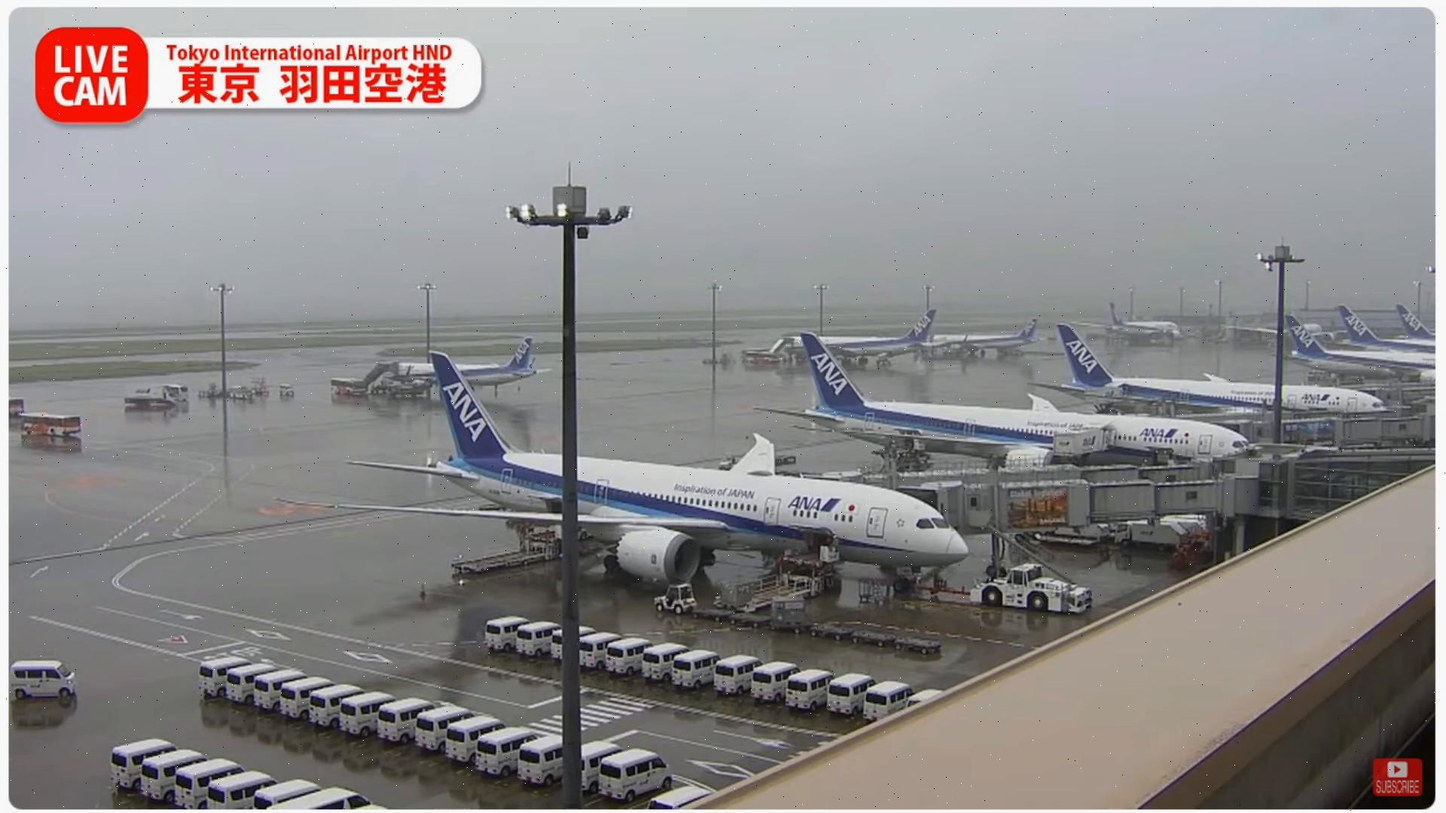APS: (969, 561, 1094, 613)
Aerobridge: (894, 452, 1258, 584), (795, 442, 1213, 488)
Airplane: (333, 353, 970, 591)
Dolly: (692, 607, 947, 655)
JCPL: (710, 542, 827, 611), (452, 521, 562, 576)
Tractor: (650, 583, 700, 617)
ULD: (721, 576, 754, 609)
Window: (1295, 452, 1436, 515)
